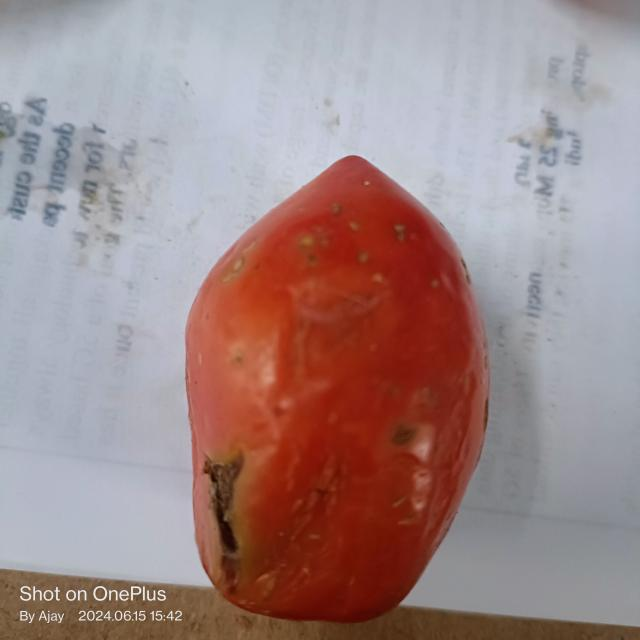Botrytis: (201, 450, 247, 601), (391, 422, 416, 446)
